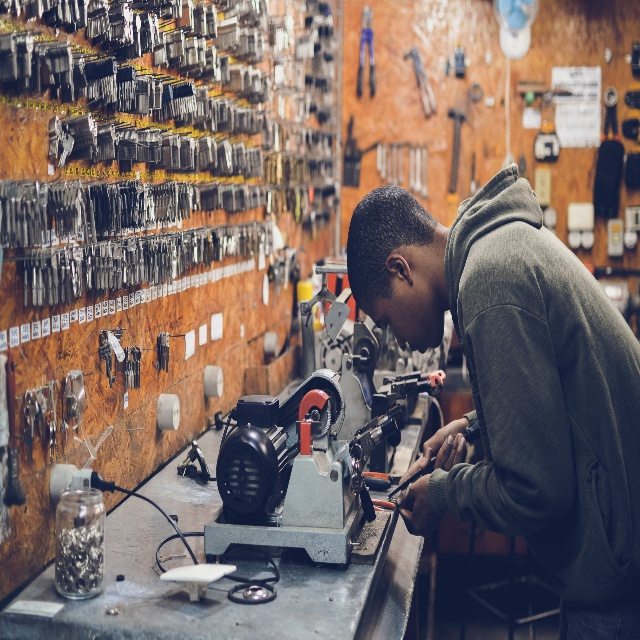Sin_guantes: (397, 415, 477, 493), (395, 473, 444, 540)
